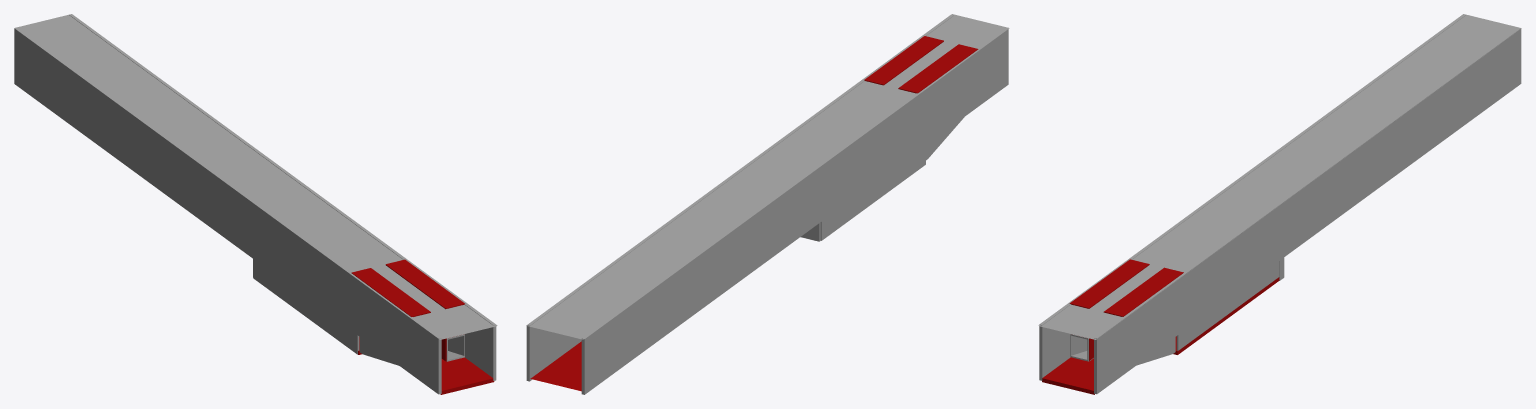
The model's file is Bibliothèque_3L_E_O__P_B_Mesh.fbx.
The picture shows the model from 3 angles, left to right: view 1: azimuth 30°, elevation 25°; view 2: azimuth 150°, elevation 25°; view 3: azimuth 330°, elevation 25°; orthographic projection.
Parts seen in each view (by area): view 1: polySurface9; view 2: polySurface9; view 3: polySurface9.
Boxes of the visible parts, x1,y1,x2,y2 form: polySurface9: (14, 14, 497, 394); polySurface9: (526, 14, 1009, 394); polySurface9: (1038, 14, 1521, 394).
Bounding box in the file's own units: 19.33 × 24.44 × 246.
